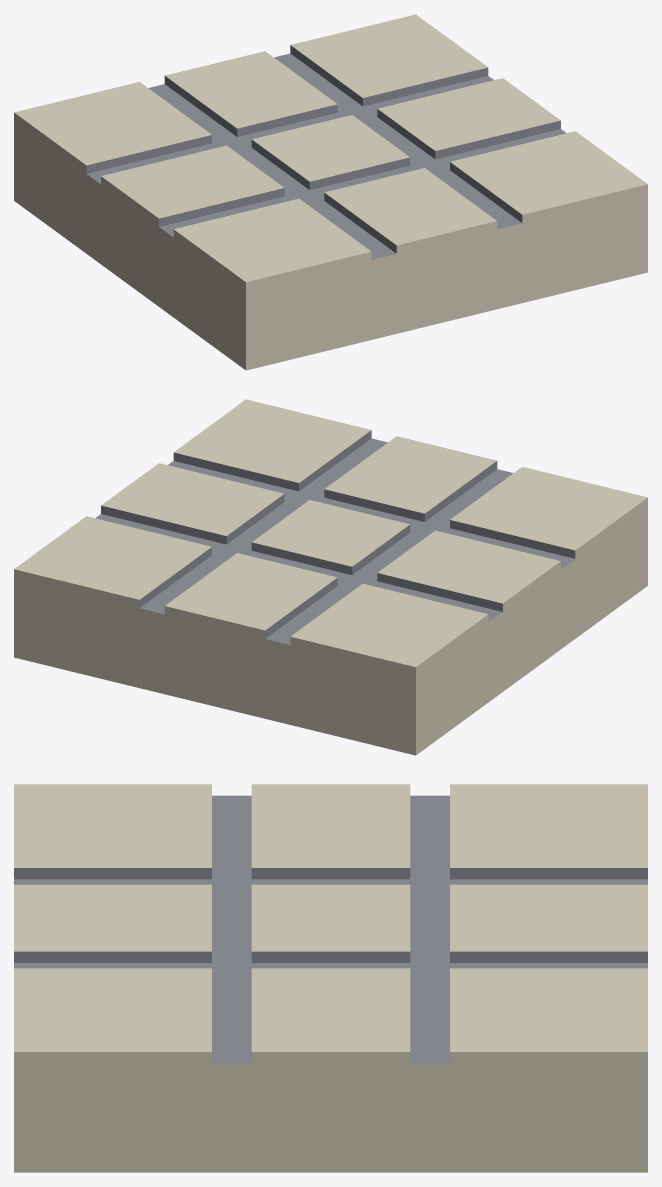
The model's file is roadTile_087.fbx.
3 views of the same model, one above another, from view 1: azimuth 30°, elevation 25°; view 2: azimuth 150°, elevation 25°; view 3: azimuth 270°, elevation 25° (orthographic). The views are drawn at different scales.
Parts seen in each view (by area): view 1: roadTile_087; view 2: roadTile_087; view 3: roadTile_087.
Part boxes in pixels (x1,y1,x2,y2): roadTile_087: [14, 14, 647, 370]; roadTile_087: [14, 399, 647, 755]; roadTile_087: [14, 784, 647, 1172].
Size of the model in its own units: 118 by 24.8 by 118.
